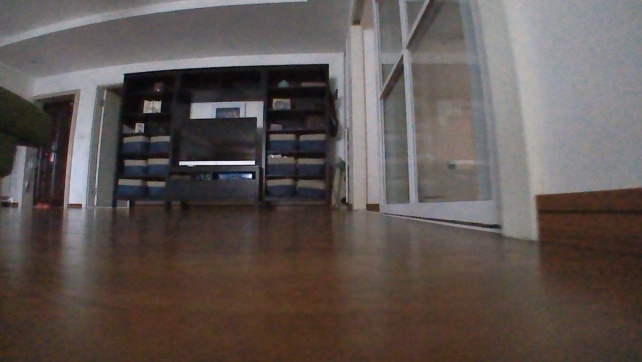TV_stand: (159, 163, 264, 207)
